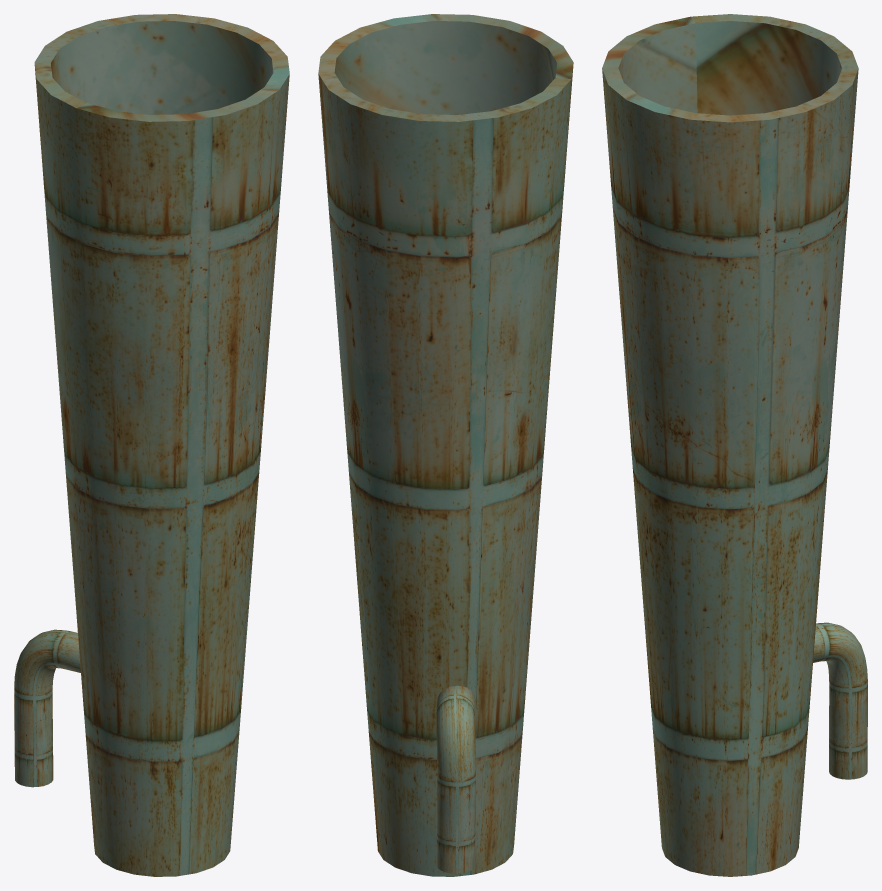
The model's file is mainandsidepipe.fbx.
The picture shows the model from 3 angles, left to right: view 1: azimuth 30°, elevation 25°; view 2: azimuth 150°, elevation 25°; view 3: azimuth 270°, elevation 25°; orthographic projection.
Visible parts, largest first — view 1: Maintube, mainpipe; view 2: Maintube, mainpipe; view 3: Maintube, mainpipe.
Boxes of the visible parts, box(x1,y1,x2,y2) form: Maintube: box(34, 14, 289, 876); mainpipe: box(14, 629, 80, 787); Maintube: box(318, 14, 573, 876); mainpipe: box(436, 685, 475, 873); Maintube: box(602, 14, 858, 876); mainpipe: box(813, 622, 867, 779).
Bounding box in the file's own units: 5.36 × 17.99 × 5.56.
2 materials, 2 textured.
